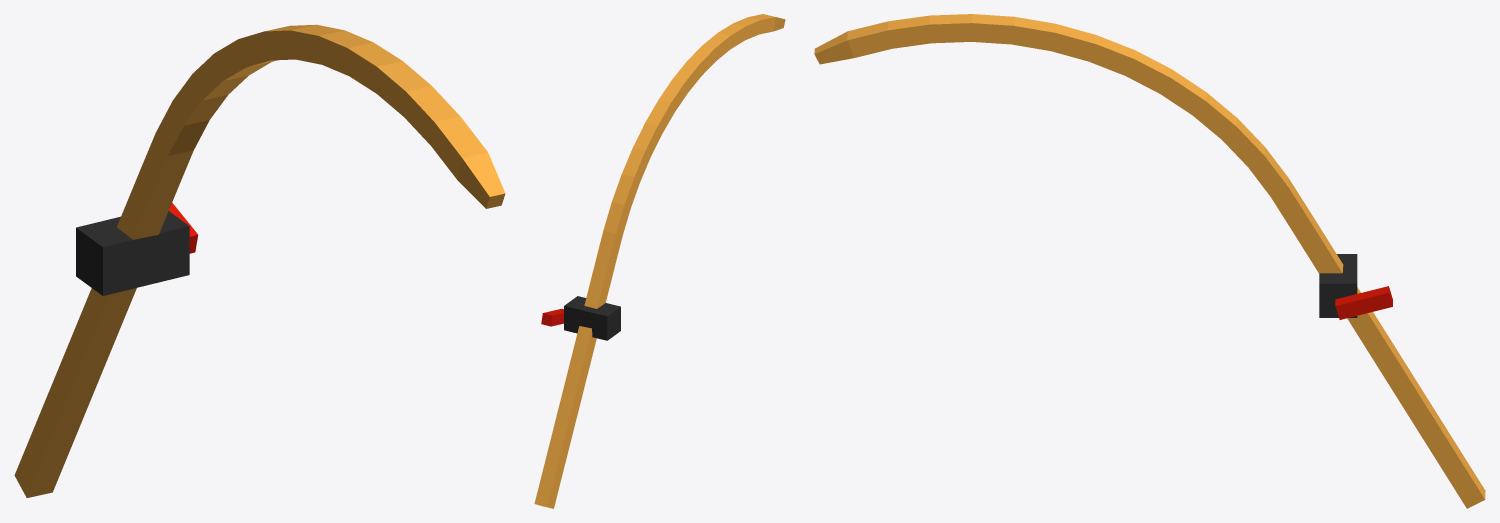
Rendered from fishingrod.fbx.
3 renders of one model, left to right at view 1: azimuth 30°, elevation 25°; view 2: azimuth 150°, elevation 25°; view 3: azimuth 270°, elevation 25°, orthographic. The views are drawn at different scales.
Visible parts, largest first — view 1: FishingRod, Ball; view 2: FishingRod, Ball, Rode; view 3: FishingRod, Ball, Rode.
Boxes of the visible parts, left/top/right/bottom form: FishingRod: left=14, top=24, right=505, bottom=497; Ball: left=76, top=211, right=189, bottom=295; FishingRod: left=534, top=14, right=785, bottom=508; Ball: left=564, top=296, right=620, bottom=340; Rode: left=541, top=308, right=563, bottom=326; FishingRod: left=814, top=14, right=1485, bottom=508; Ball: left=1319, top=254, right=1357, bottom=317; Rode: left=1335, top=286, right=1392, bottom=319.
Size of the model in its own units: 46.6 by 287 by 360.
